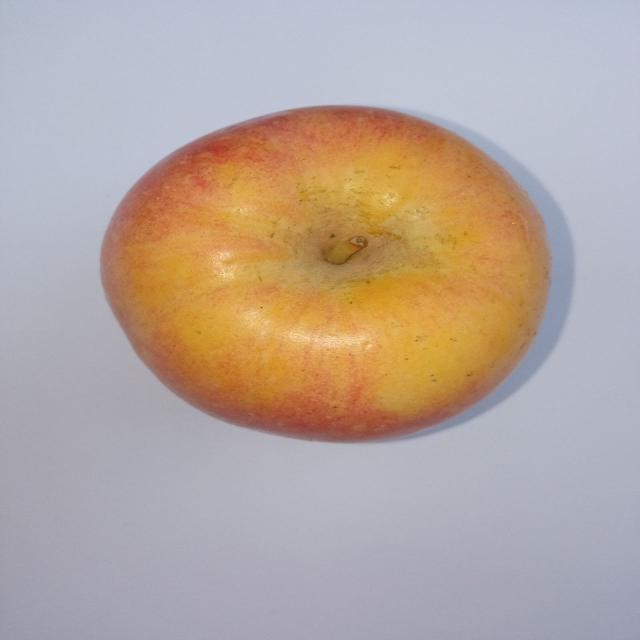fresh_apple: (98, 105, 551, 443)
